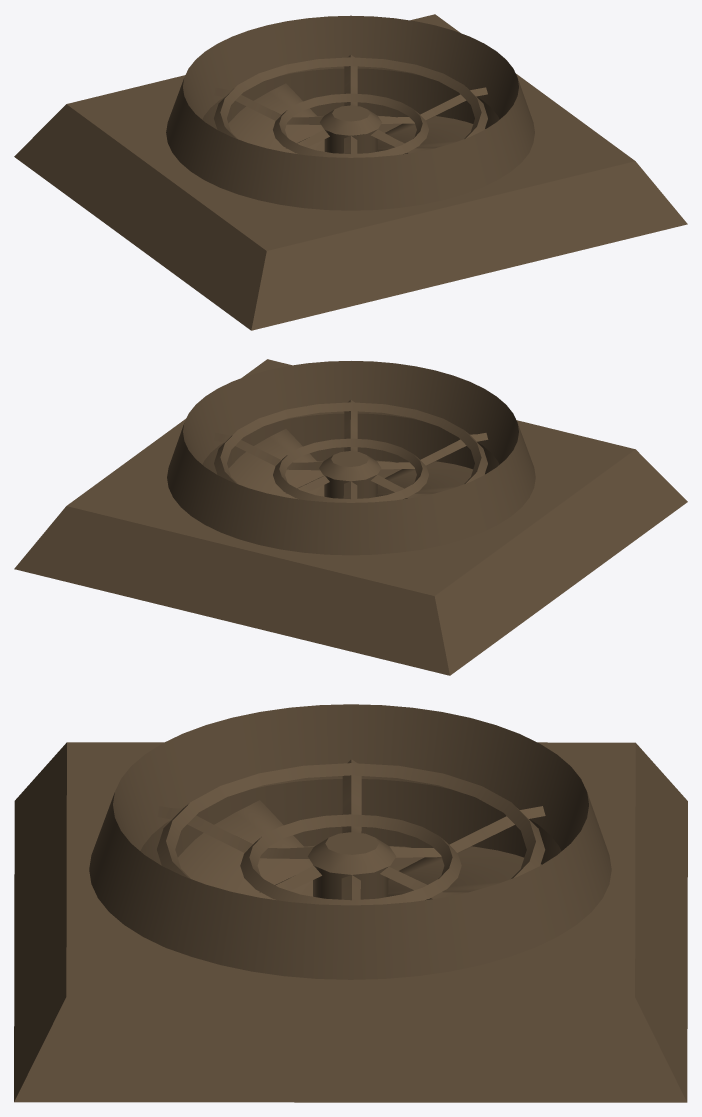
The model's file is IndustrialFans.obj.
The picture shows the model from 3 angles, top to bottom: view 1: azimuth 30°, elevation 25°; view 2: azimuth 150°, elevation 25°; view 3: azimuth 270°, elevation 25°; orthographic projection. The views are drawn at different scales.
Visible parts, largest first — view 1: Industrial_Fan_1_Cube.001, Industrial_Fan_2_Cube.000; view 2: Industrial_Fan_1_Cube.001, Industrial_Fan_2_Cube.000; view 3: Industrial_Fan_1_Cube.001, Industrial_Fan_2_Cube.000.
Part boxes in pixels (left/top/right/bottom): Industrial_Fan_1_Cube.001: left=14, top=14, right=687, bottom=330; Industrial_Fan_2_Cube.000: left=228, top=83, right=485, bottom=154; Industrial_Fan_1_Cube.001: left=14, top=359, right=687, bottom=675; Industrial_Fan_2_Cube.000: left=228, top=429, right=485, bottom=499; Industrial_Fan_1_Cube.001: left=14, top=704, right=687, bottom=1102; Industrial_Fan_2_Cube.000: left=178, top=800, right=541, bottom=900.
Size of the model in its own units: 2.97 by 0.6743 by 2.8.
